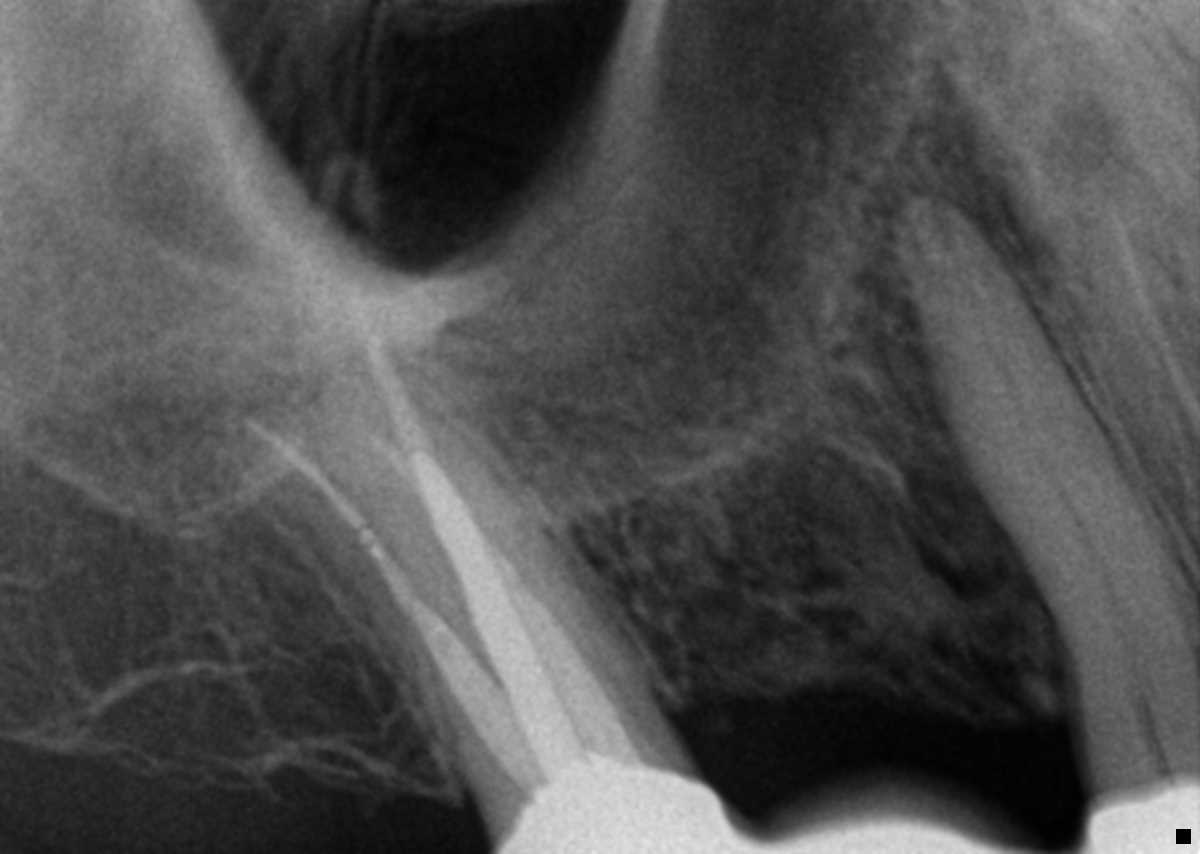Apical Lesion: (1040, 91, 1129, 214)
Distal Root: (240, 409, 530, 774)
Main Canal: (1083, 161, 1200, 542)
Main Root: (901, 196, 1197, 674)
Palatal Root: (291, 235, 652, 771)
Root Canal Filling: (308, 377, 653, 719), (937, 217, 1136, 650), (248, 418, 507, 734), (409, 449, 585, 779), (1109, 199, 1200, 433)
